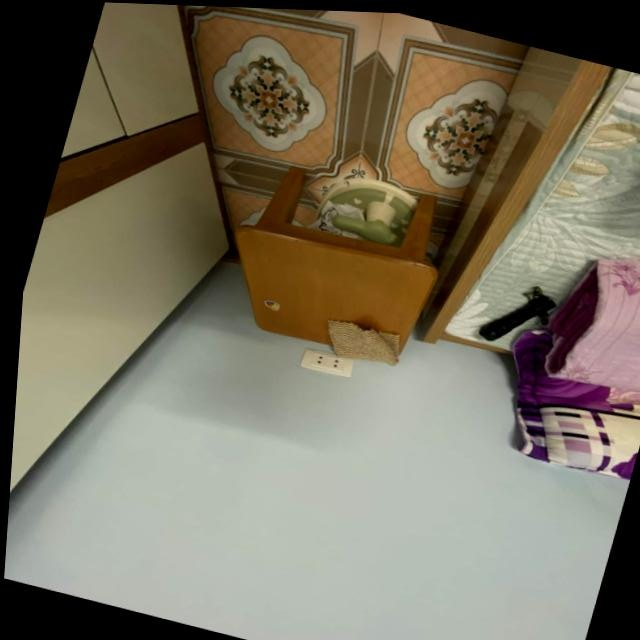outlet: (298, 348, 355, 380)
